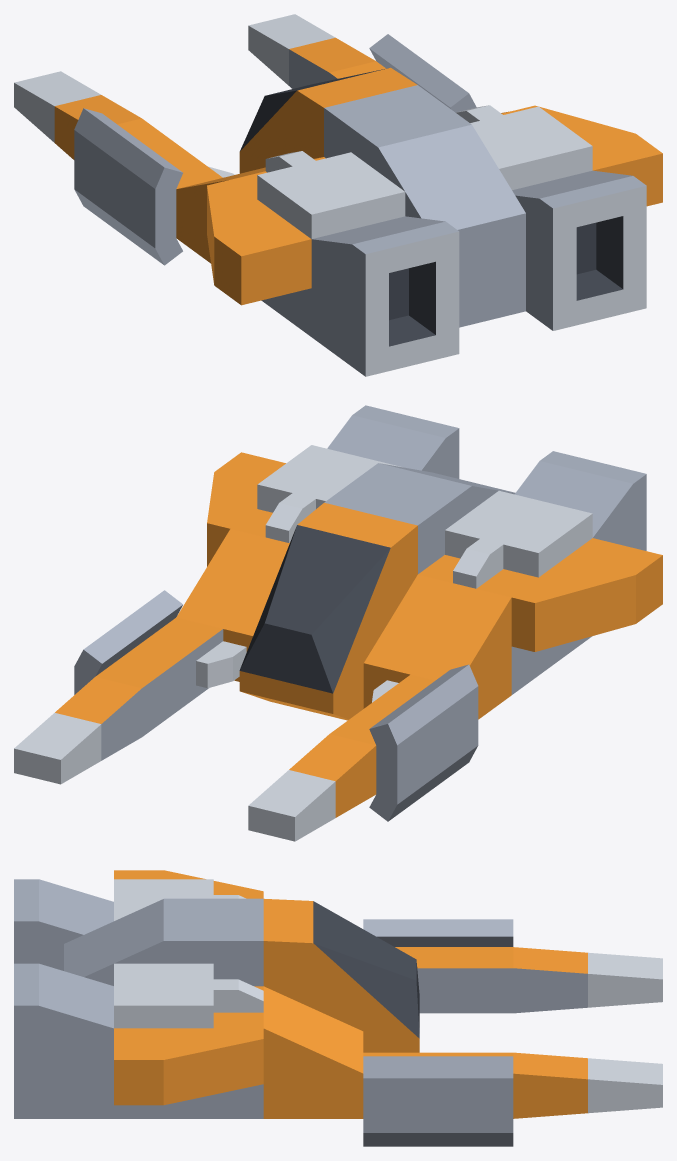
The model's file is craft_miner.fbx.
3 renders of one model, top to bottom at view 1: azimuth 30°, elevation 25°; view 2: azimuth 150°, elevation 25°; view 3: azimuth 270°, elevation 25°, orthographic. The views are drawn at different scales.
Visible parts, largest first — view 1: craft_miner; view 2: craft_miner; view 3: craft_miner.
Boxes of the visible parts, left/top/right/bottom form: craft_miner: left=14, top=14, right=662, bottom=376; craft_miner: left=14, top=405, right=662, bottom=841; craft_miner: left=14, top=870, right=662, bottom=1146.
Bounding box in the file's own units: 18 × 7 × 26.
